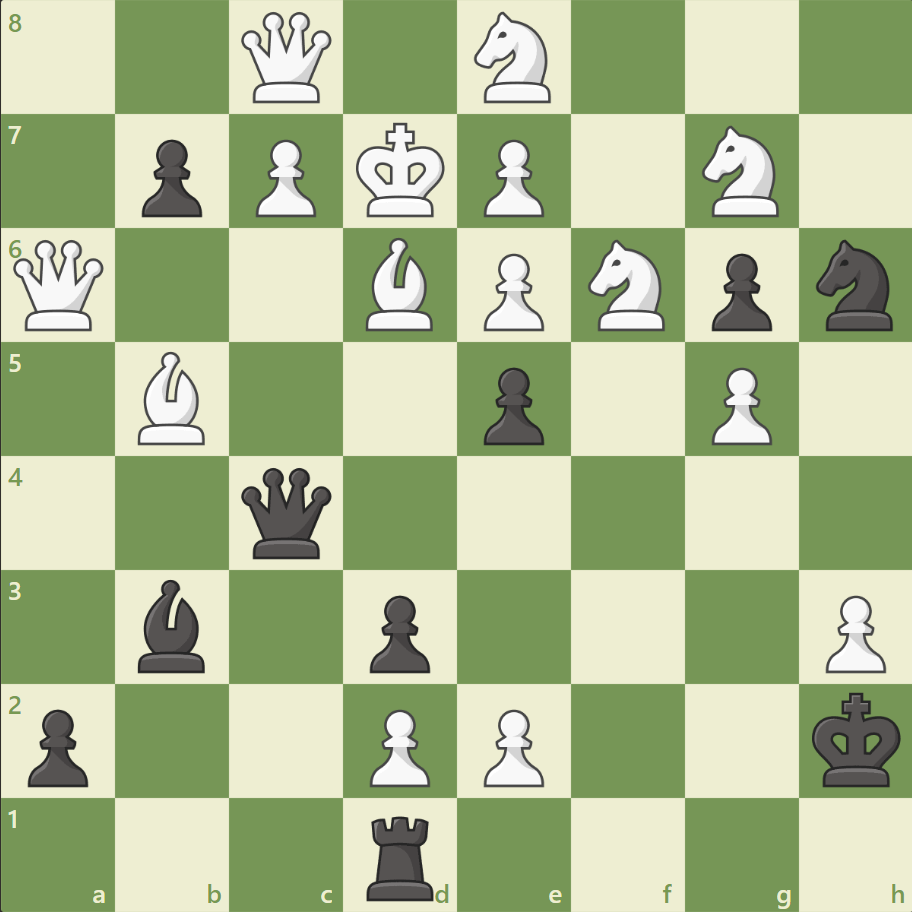B: (358, 233, 442, 336), (131, 347, 215, 449)
K: (351, 117, 451, 225)
N: (465, 7, 562, 110), (579, 234, 676, 337), (692, 121, 789, 223)
P: (247, 132, 322, 223), (474, 132, 549, 223), (474, 246, 549, 337), (701, 359, 776, 450), (474, 700, 549, 791), (815, 586, 889, 677), (361, 700, 435, 791)
Q: (237, 9, 336, 108), (10, 236, 109, 335)
b: (131, 574, 215, 676)
k: (806, 685, 906, 793)
n: (806, 234, 903, 337)
p: (133, 132, 208, 223), (701, 246, 776, 337), (474, 359, 549, 450), (20, 700, 95, 791), (361, 586, 435, 677)
q: (237, 463, 336, 562)
r: (360, 806, 442, 904)
